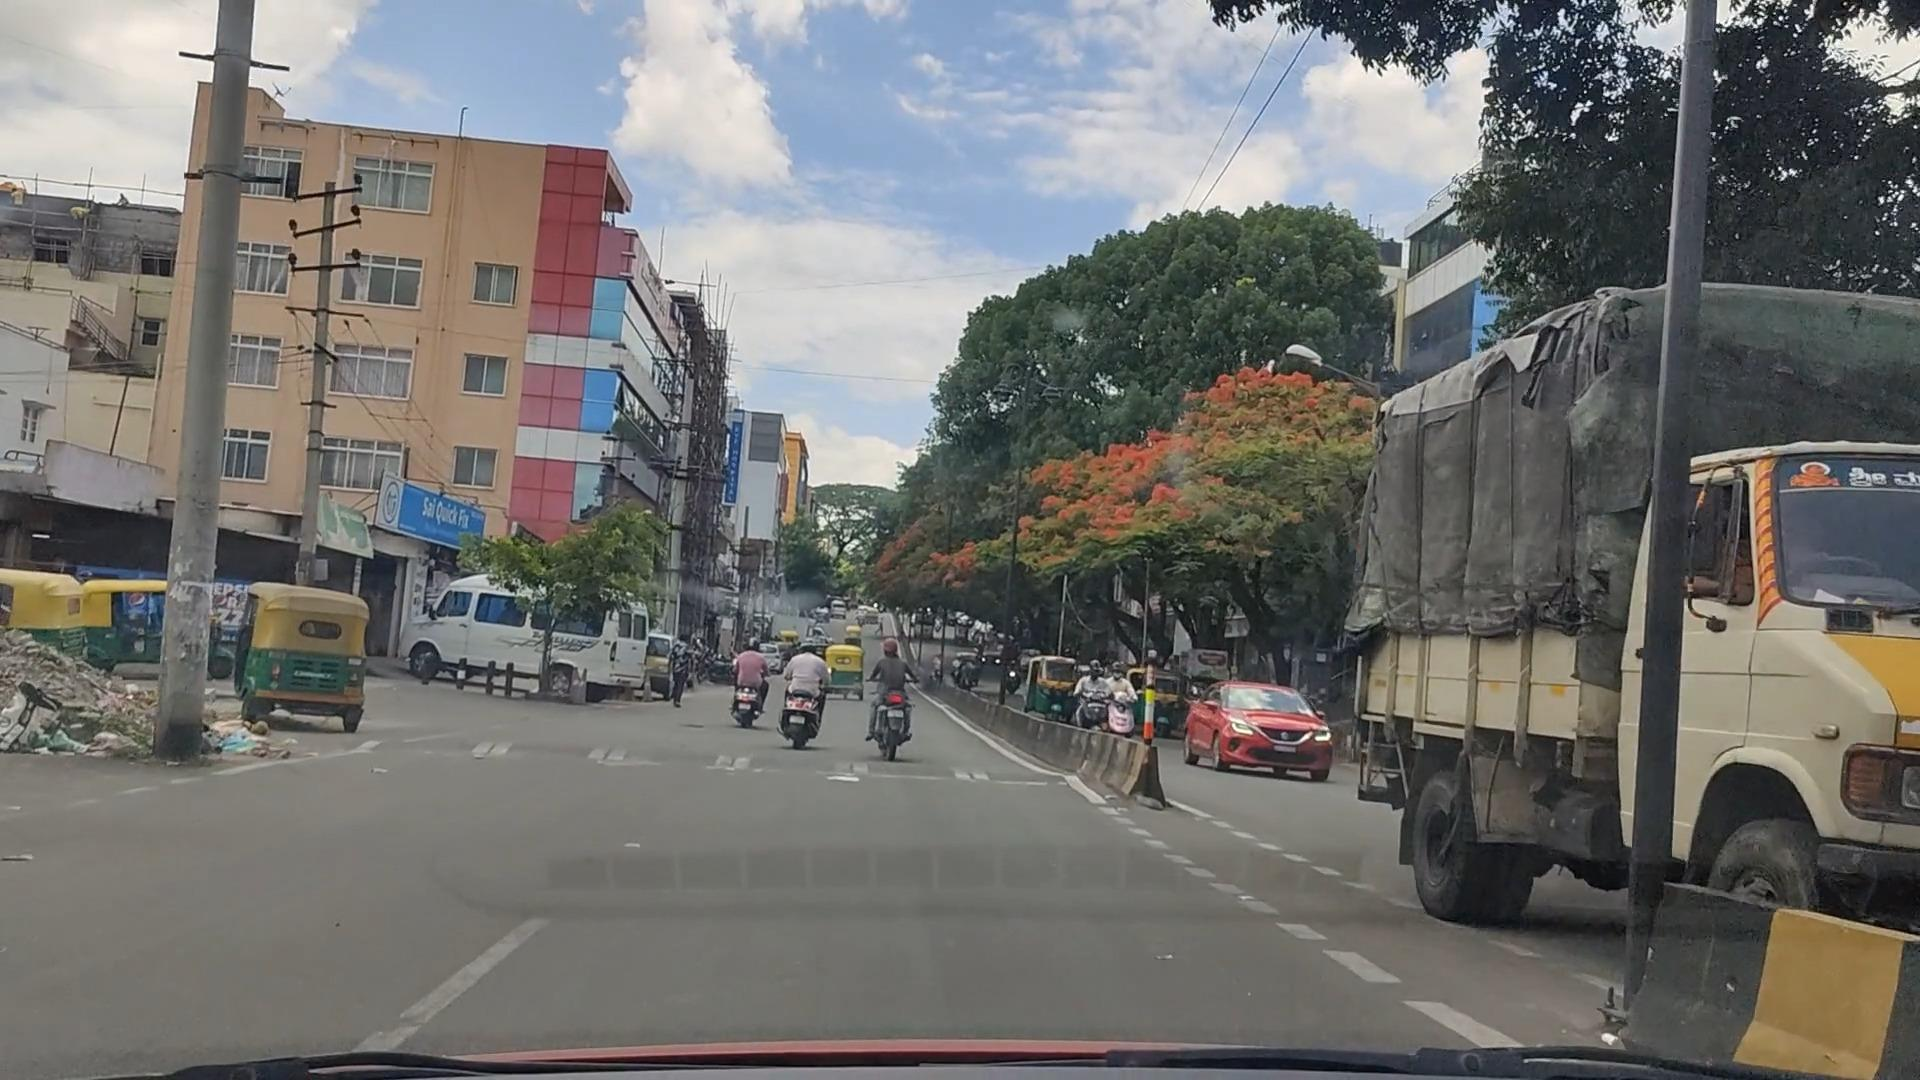SpeedBump: (423, 736, 1061, 790)
